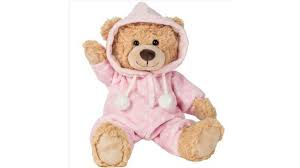teddy: (64, 1, 249, 168)
